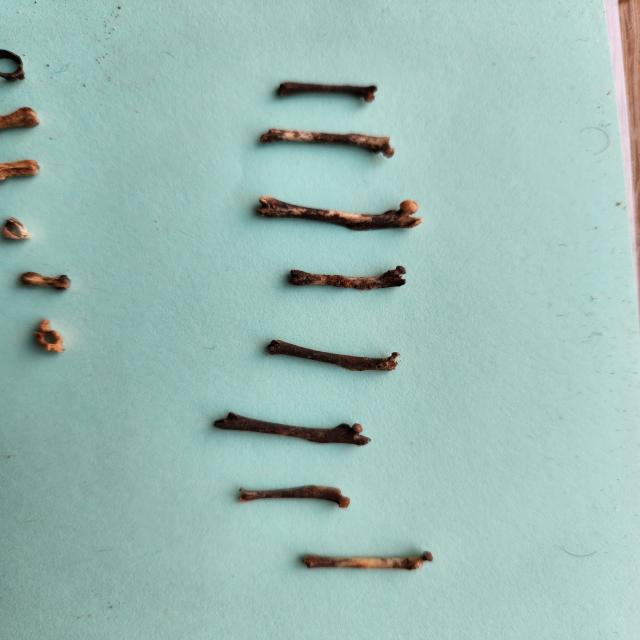fossil: (242, 190, 433, 241), (204, 405, 383, 454), (256, 333, 409, 380), (252, 121, 406, 160), (292, 543, 444, 580), (279, 260, 417, 298), (230, 477, 358, 512), (266, 75, 388, 106), (0, 92, 60, 138), (24, 314, 76, 362), (13, 266, 88, 298), (0, 154, 51, 190), (0, 43, 33, 86), (0, 213, 38, 246)
